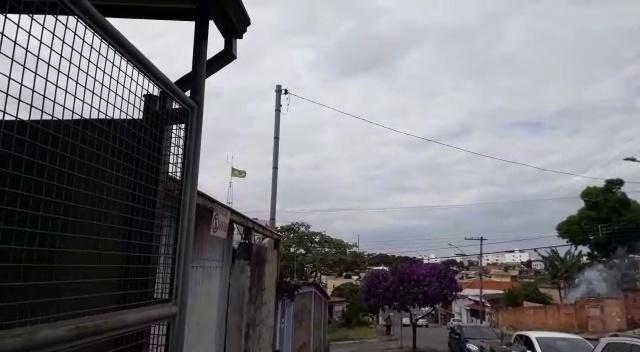smoke: (578, 267, 611, 296)
